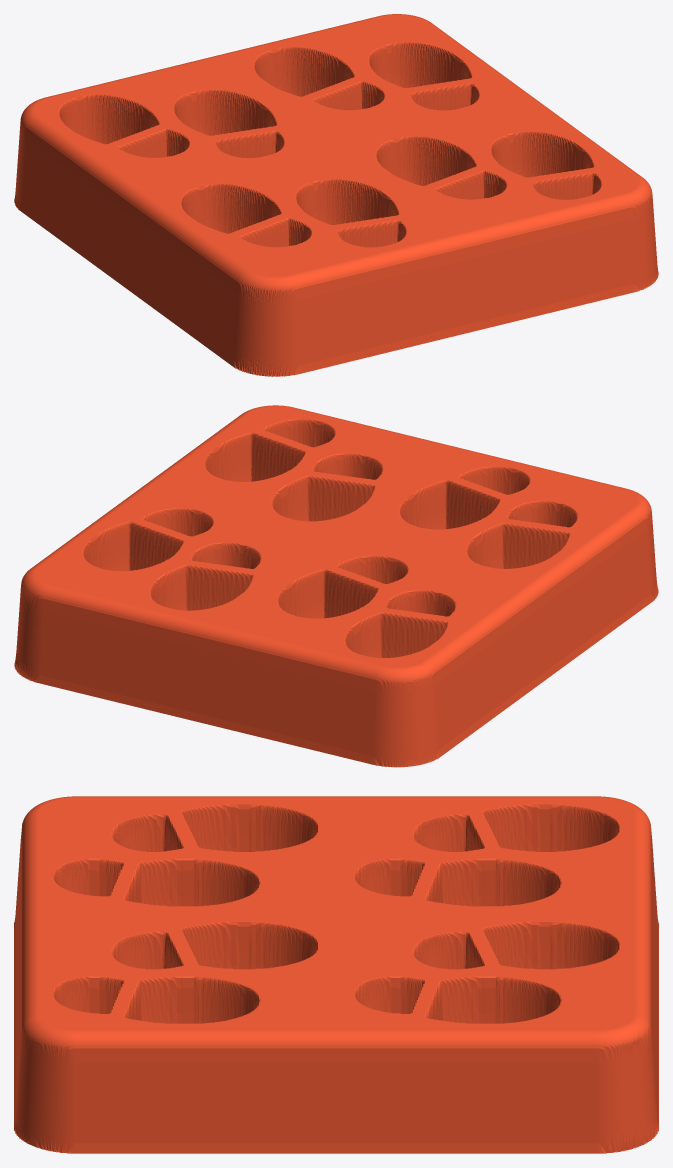
The model's file is mold.glb.
The picture shows the model from 3 angles, top to bottom: view 1: azimuth 30°, elevation 25°; view 2: azimuth 150°, elevation 25°; view 3: azimuth 270°, elevation 25°; orthographic projection. The views are drawn at different scales.
Parts seen in each view (by area): view 1: geometry_0; view 2: geometry_0; view 3: geometry_0.
Part boxes in pixels (left/top/right/bottom): geometry_0: left=14, top=14, right=658, bottom=376; geometry_0: left=14, top=405, right=658, bottom=767; geometry_0: left=14, top=796, right=658, bottom=1153.
Size of the model in its own units: 0.0874 by 0.0182 by 0.0942.
